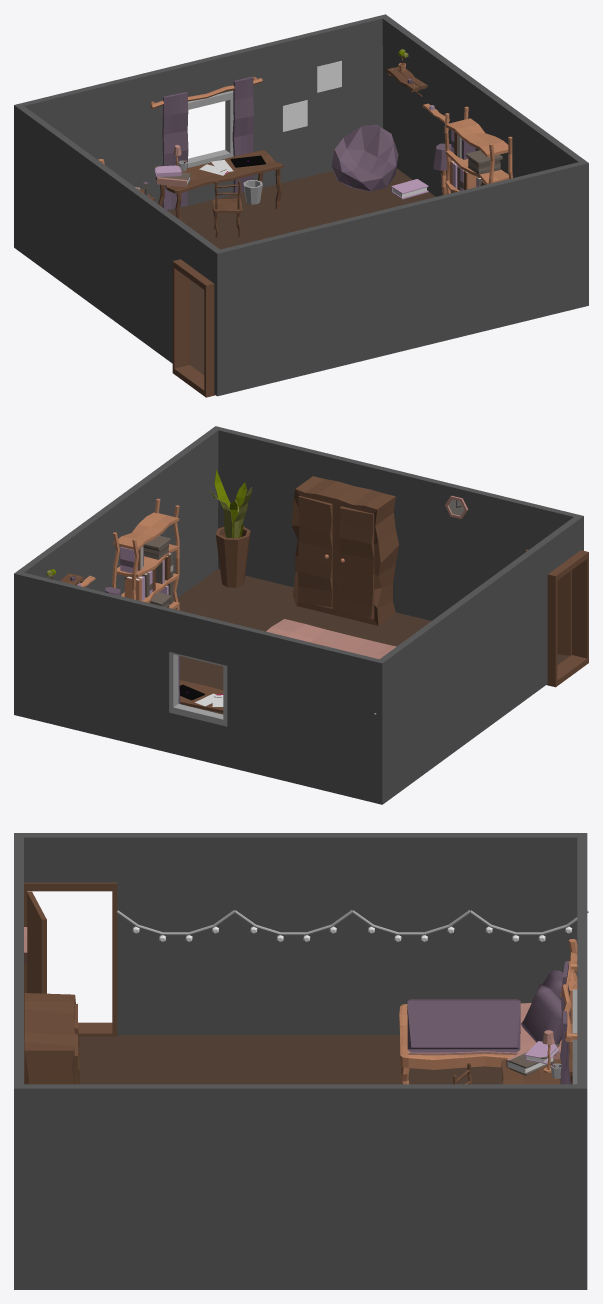
File: room_norah_new_updated.fbx
The picture shows the model from 3 angles, top to bottom: view 1: azimuth 30°, elevation 25°; view 2: azimuth 150°, elevation 25°; view 3: azimuth 270°, elevation 25°; orthographic projection. The views are drawn at different scales.
Visible parts, largest first — view 1: Room, Curtain, Door_Frame, Bookshelf, Seat_Thingy, Table, Window_Frame, Chair, Poster, Poster.001, Book.002, Wall_Shelf; view 2: Room, Cabinet, Bookshelf, Door_Frame, Huge_Plant, Rug, Window_Frame, Door, Table; view 3: Room, Bed, Cabinet, Door_Frame, Fairylights, Door, Curtain, Table, Book.001.
Part boxes in pixels (x1,y1,x2,y2): Room: (14, 14, 588, 396); Curtain: (150, 76, 262, 209); Door_Frame: (172, 259, 215, 397); Bookshelf: (444, 106, 512, 193); Seat_Thingy: (331, 124, 398, 191); Table: (156, 150, 283, 220); Window_Frame: (187, 90, 233, 167); Chair: (212, 180, 242, 237); Poster: (282, 100, 307, 131); Poster.001: (317, 61, 341, 92); Book.002: (391, 179, 428, 199); Wall_Shelf: (386, 66, 427, 96); Room: (14, 426, 583, 804); Cabinet: (291, 476, 398, 625); Bookshelf: (112, 498, 179, 610); Door_Frame: (546, 550, 588, 687); Huge_Plant: (209, 469, 251, 587); Rug: (266, 619, 396, 659); Window_Frame: (169, 652, 227, 726); Door: (525, 549, 571, 655); Table: (179, 680, 223, 712); Room: (14, 833, 587, 1289); Bed: (399, 939, 577, 1084); Cabinet: (24, 993, 80, 1084); Door_Frame: (24, 882, 117, 1036); Fairylights: (116, 910, 588, 941); Door: (27, 891, 46, 993); Curtain: (560, 961, 577, 1084); Table: (501, 1059, 560, 1084); Book.001: (506, 1048, 555, 1075).
Size of the model in its own units: 7.66 by 2.8 by 7.12.
